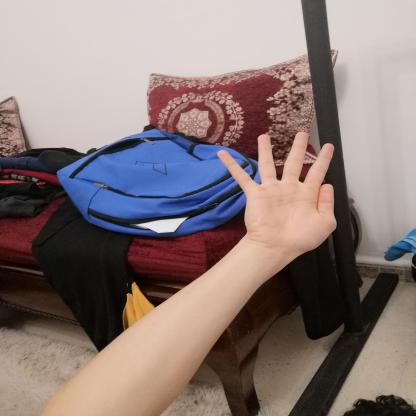SHEEN: (206, 124, 346, 266)
